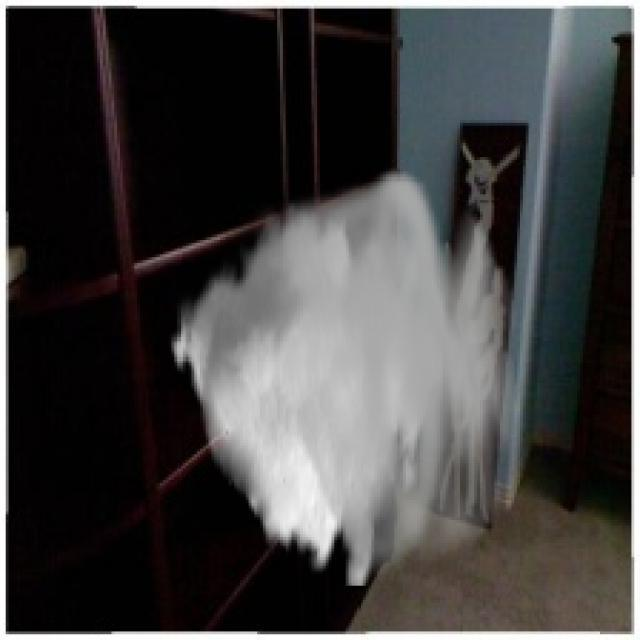Smoke: (168, 163, 520, 586)
